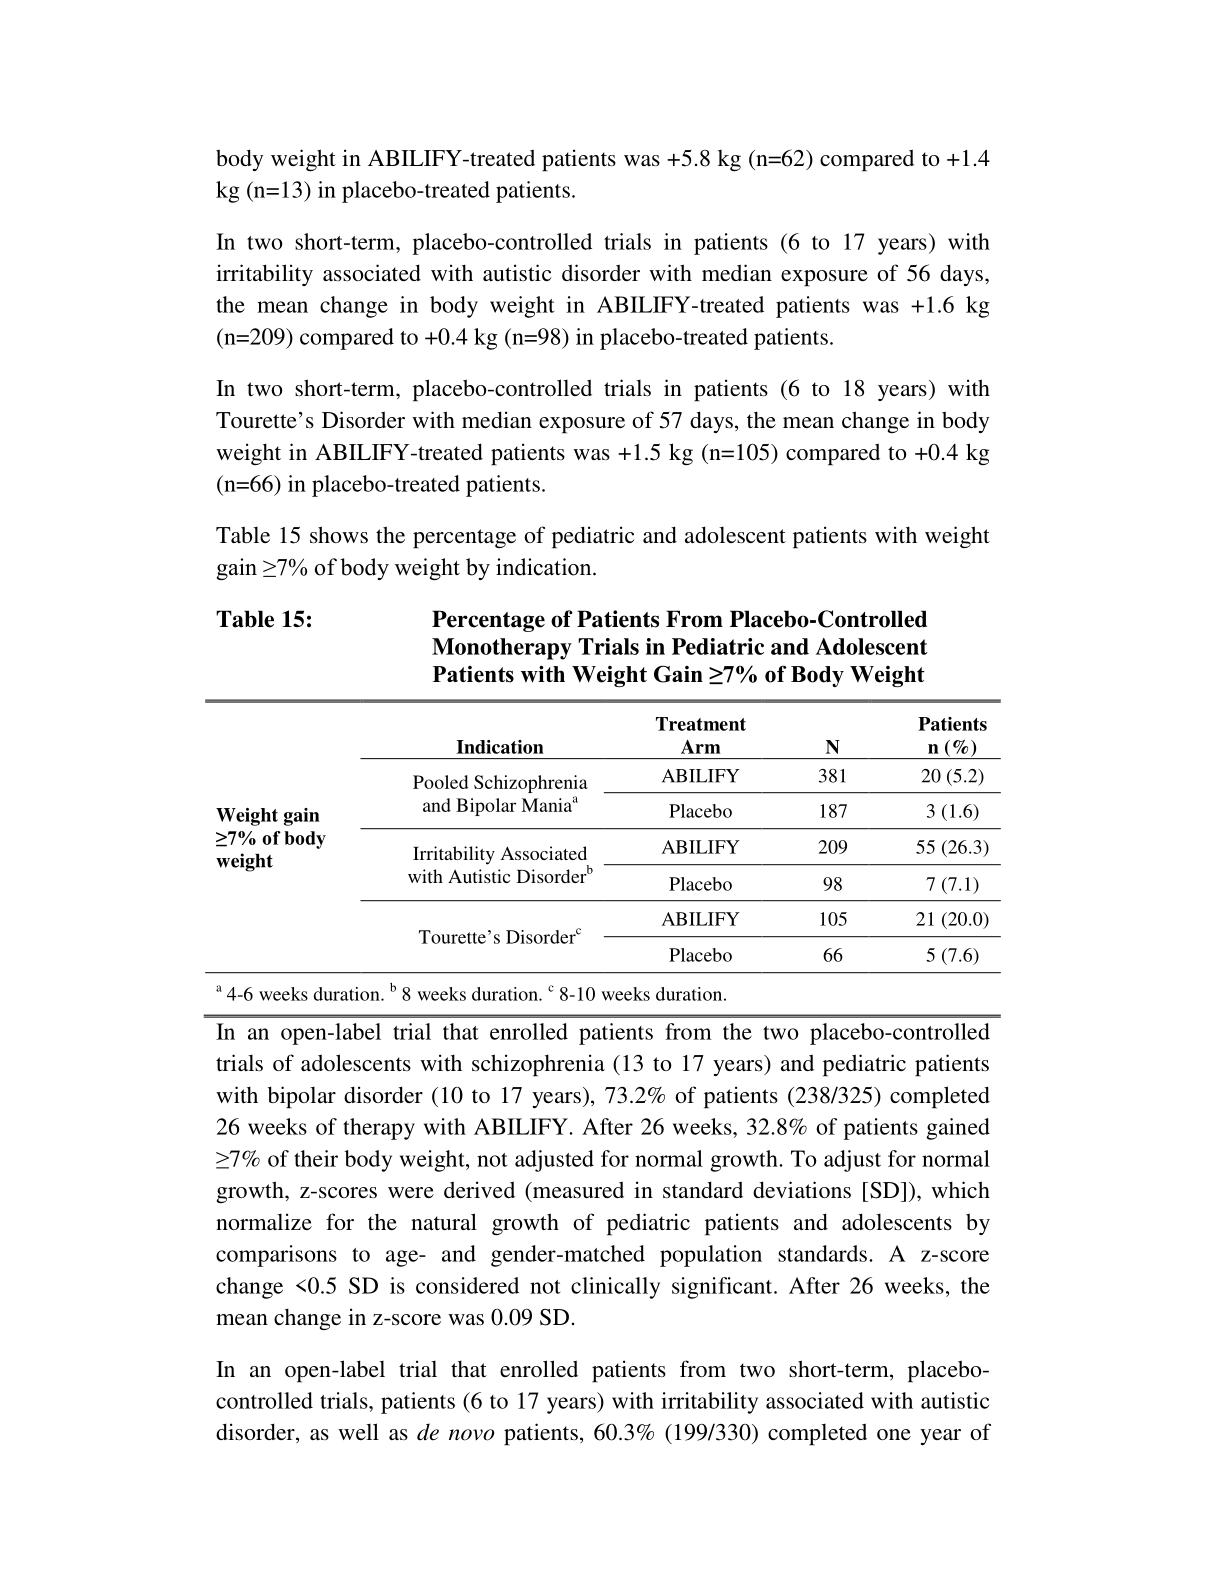partial_lined_merged_cells: (203, 698, 1002, 975)
